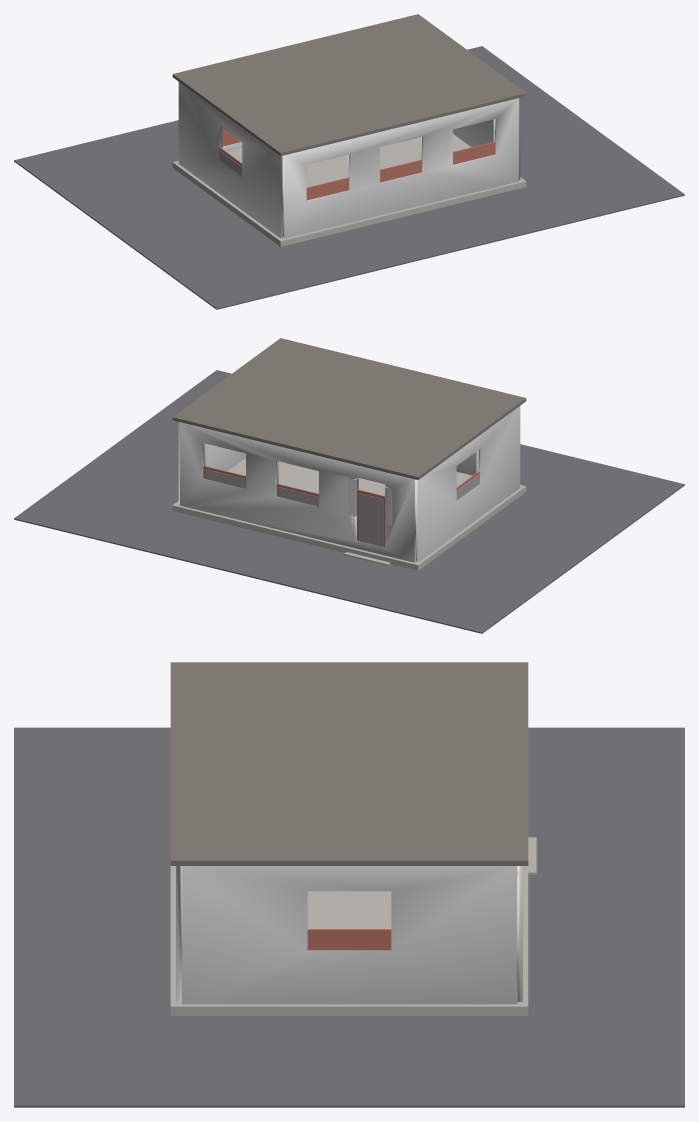
Rendered from diner.glb.
The picture shows the model from 3 angles, top to bottom: view 1: azimuth 30°, elevation 25°; view 2: azimuth 150°, elevation 25°; view 3: azimuth 270°, elevation 25°; orthographic projection. The views are drawn at different scales.
Parts seen in each view (by area): view 1: ground, roof, back_wall, left_wall, foundation, floor, frame (×3), right_wall; view 2: ground, roof, front_wall (×2), left_wall, foundation, frame (×3), floor, glass, right_wall; view 3: ground, roof, right_wall, foundation, floor, frame, back_wall, front_wall.
Boxes of the visible parts, box(x1,y1,x2,y2) form: ground: box(14, 46, 684, 309); roof: box(172, 14, 526, 155); back_wall: box(283, 98, 518, 238); left_wall: box(178, 82, 282, 237); foundation: box(172, 161, 526, 246); floor: box(227, 134, 471, 187); frame (×3): box(306, 141, 495, 200); right_wall: box(453, 98, 520, 179); ground: box(14, 370, 684, 633); roof: box(172, 338, 526, 479); front_wall (×2): box(180, 422, 415, 562); left_wall: box(416, 406, 520, 561); foundation: box(172, 485, 526, 570); frame (×3): box(203, 465, 384, 546); floor: box(227, 458, 471, 495); glass: box(358, 493, 383, 547); right_wall: box(178, 422, 245, 503); ground: box(14, 727, 684, 1107); roof: box(170, 662, 528, 865); right_wall: box(181, 866, 517, 1004); foundation: box(170, 866, 528, 1015); floor: box(307, 891, 391, 928); frame: box(307, 929, 391, 950); back_wall: box(176, 866, 181, 1001); front_wall: box(517, 866, 522, 1001).
Size of the model in its own units: 16 by 3.1 by 12.
